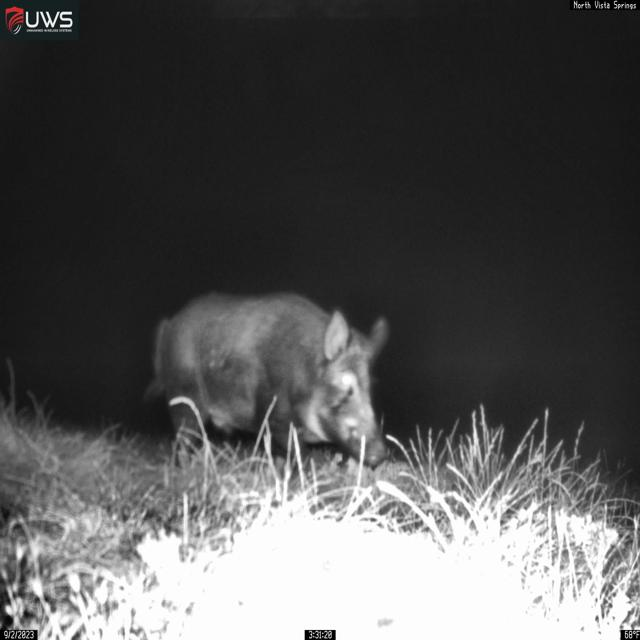pig: (142, 289, 392, 480)
